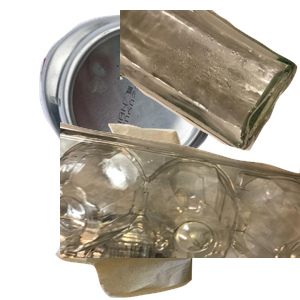glass: (120, 10, 300, 153)
metal: (37, 11, 261, 180)
plastic: (60, 120, 300, 300)
trash: (53, 121, 239, 300)
